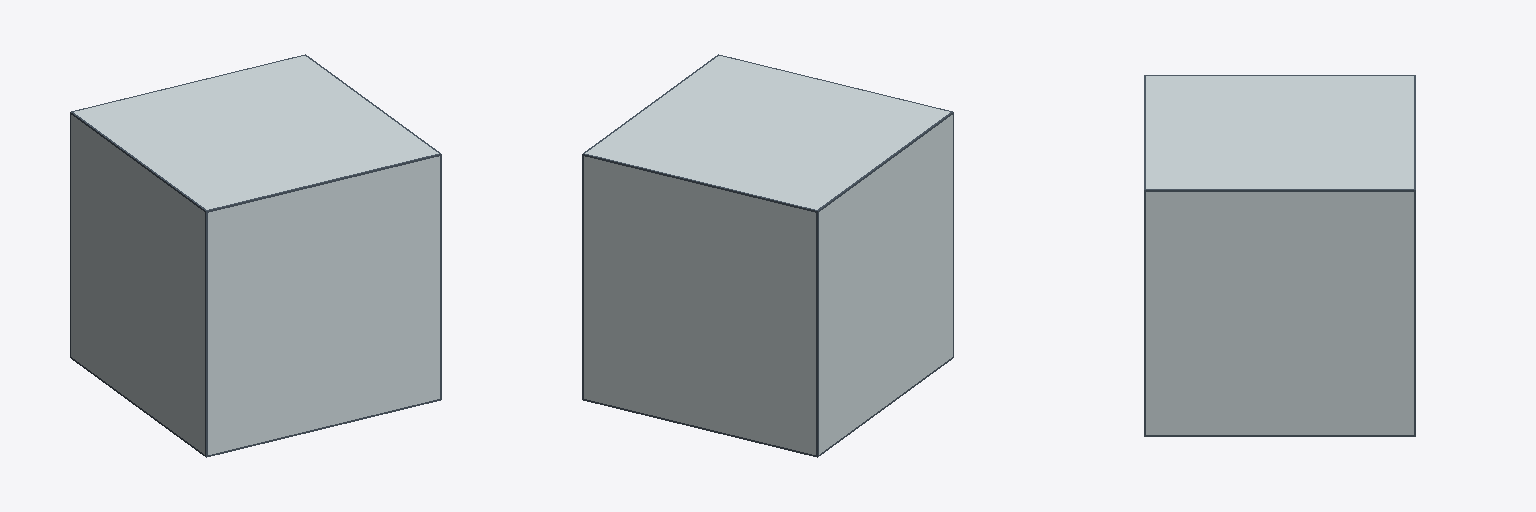
3 views of the same model, side by side, from view 1: azimuth 30°, elevation 25°; view 2: azimuth 150°, elevation 25°; view 3: azimuth 270°, elevation 25° (orthographic).
Visible parts, largest first — view 1: Box001; view 2: Box001; view 3: Box001.
Boxes of the visible parts, box(x1,y1,x2,y2) form: Box001: box(70, 54, 441, 457); Box001: box(582, 54, 953, 457); Box001: box(1144, 75, 1415, 436).
Size of the model in its own units: 1 by 1 by 1.
1 materials, 1 textured.